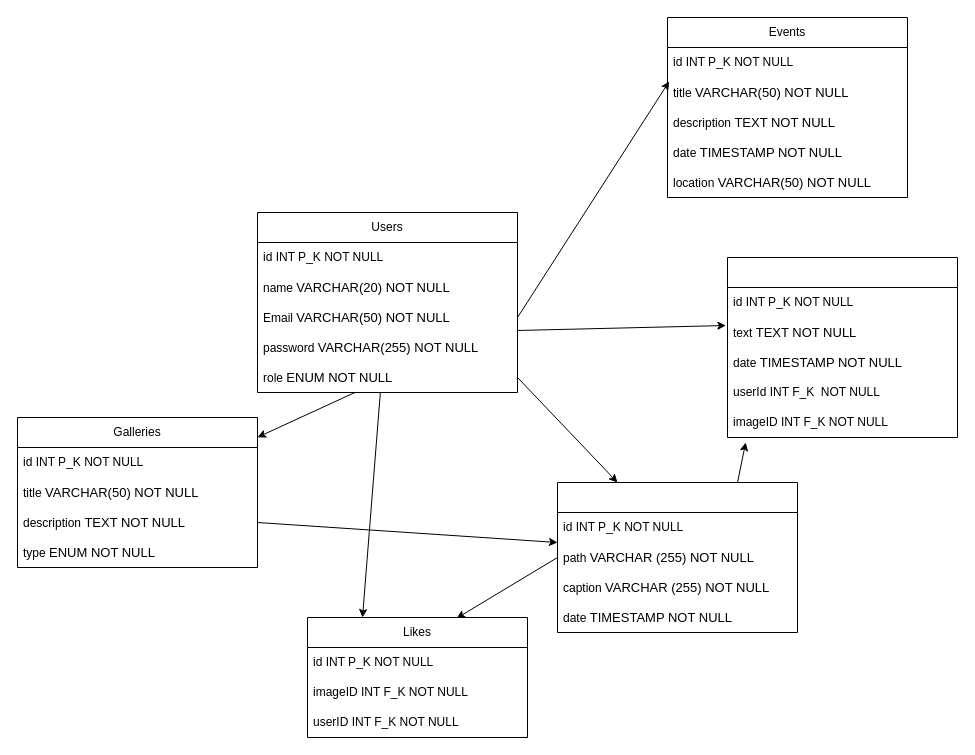
The diagram is 975 pixels wide and 755 high, and some of its shapes have lost their labels. Here are the shapes that lost their labels. From the top down, the box of each, then its label:
(726, 256, 958, 438): Comments
(556, 482, 798, 632): Images
